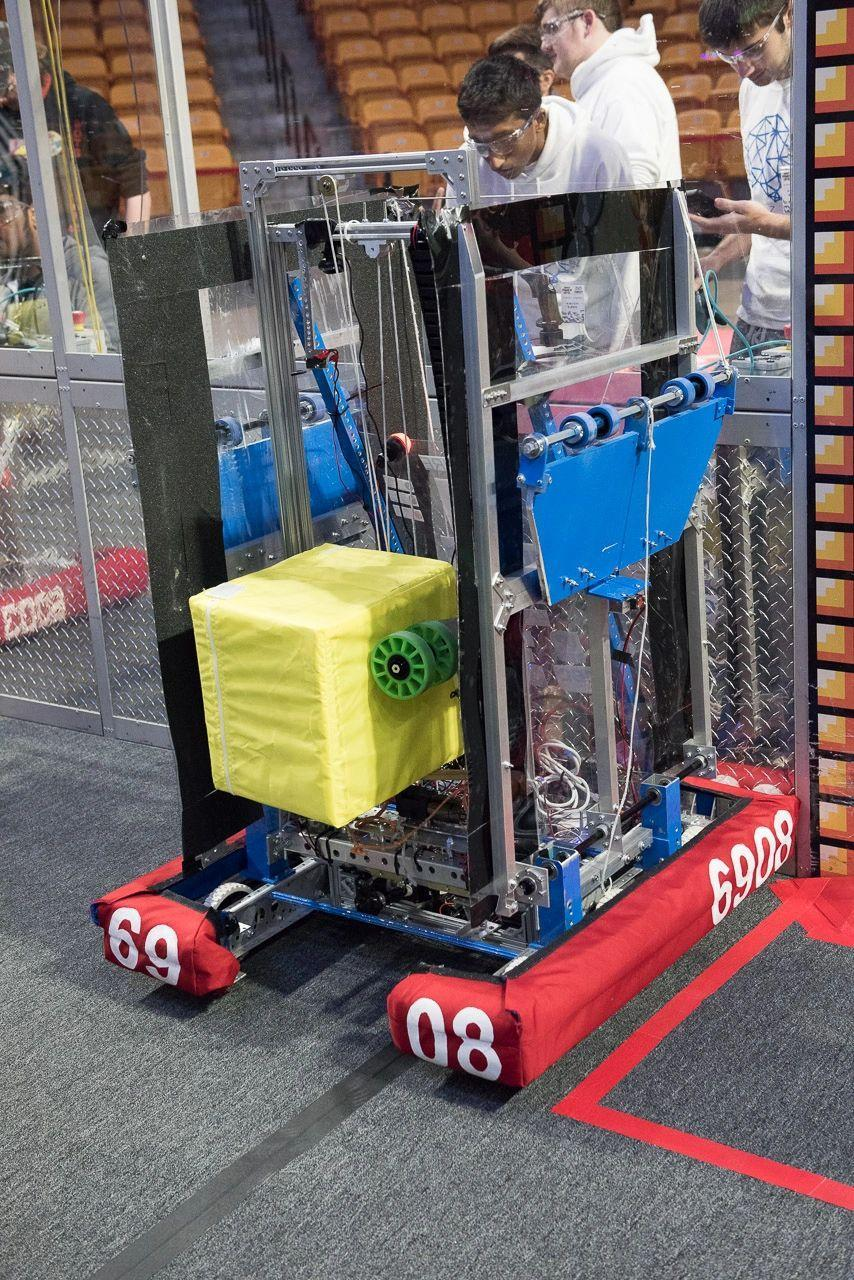robot: (82, 144, 810, 1108)
